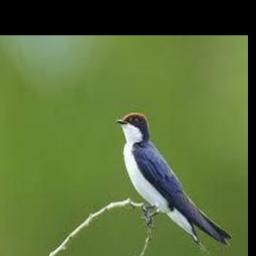Swallow: (114, 113, 233, 248)
